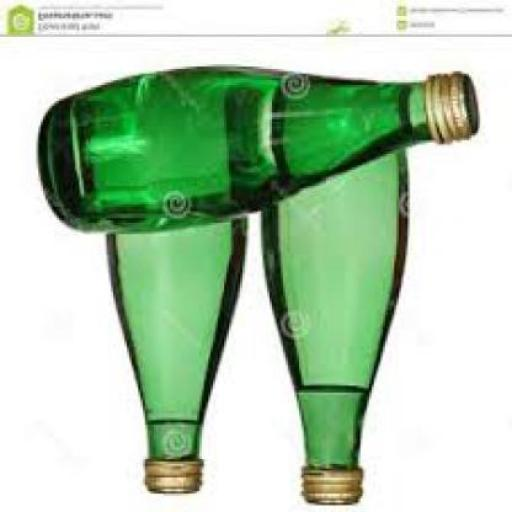glass: (36, 69, 422, 236), (258, 150, 408, 470), (106, 218, 242, 461)
metal: (419, 76, 476, 150), (140, 459, 200, 499), (299, 470, 361, 508)
